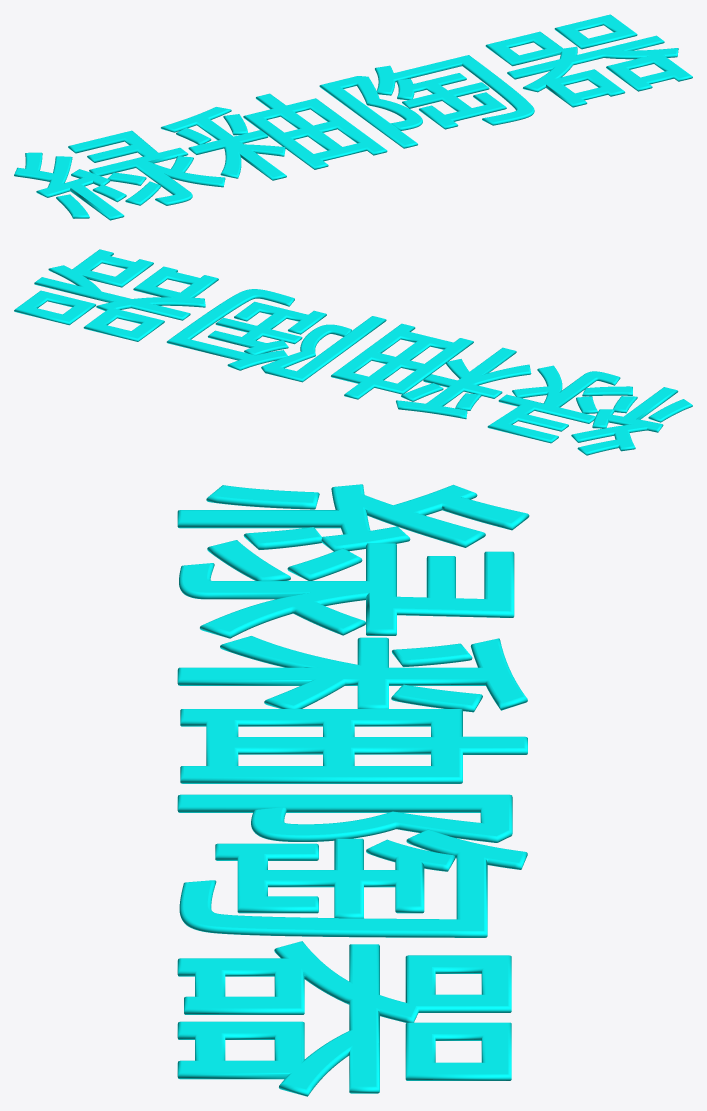
The picture shows the model from 3 angles, top to bottom: view 1: azimuth 30°, elevation 25°; view 2: azimuth 150°, elevation 25°; view 3: azimuth 270°, elevation 25°; orthographic projection. The views are drawn at different scales.
Parts seen in each view (by area): view 1: テキスト; view 2: テキスト; view 3: テキスト.
Part boxes in pixels (x1,y1,x2,y2): テキスト: [14, 14, 692, 220]; テキスト: [14, 249, 692, 455]; テキスト: [177, 484, 529, 1096].
Bounding box in the file's own units: 3.99 × 0.02 × 0.9739.
